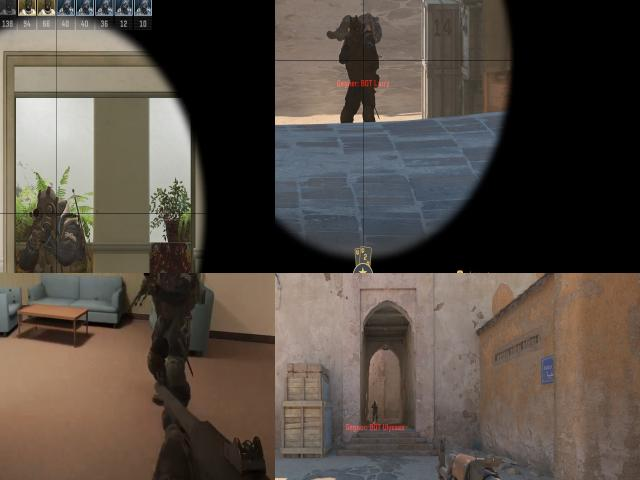CT: (145, 273, 195, 392), (31, 186, 81, 273), (341, 14, 376, 122), (372, 400, 378, 422)
CT-Head: (35, 190, 60, 227), (346, 17, 365, 44), (374, 400, 376, 404)
Dead: (330, 14, 382, 39)
